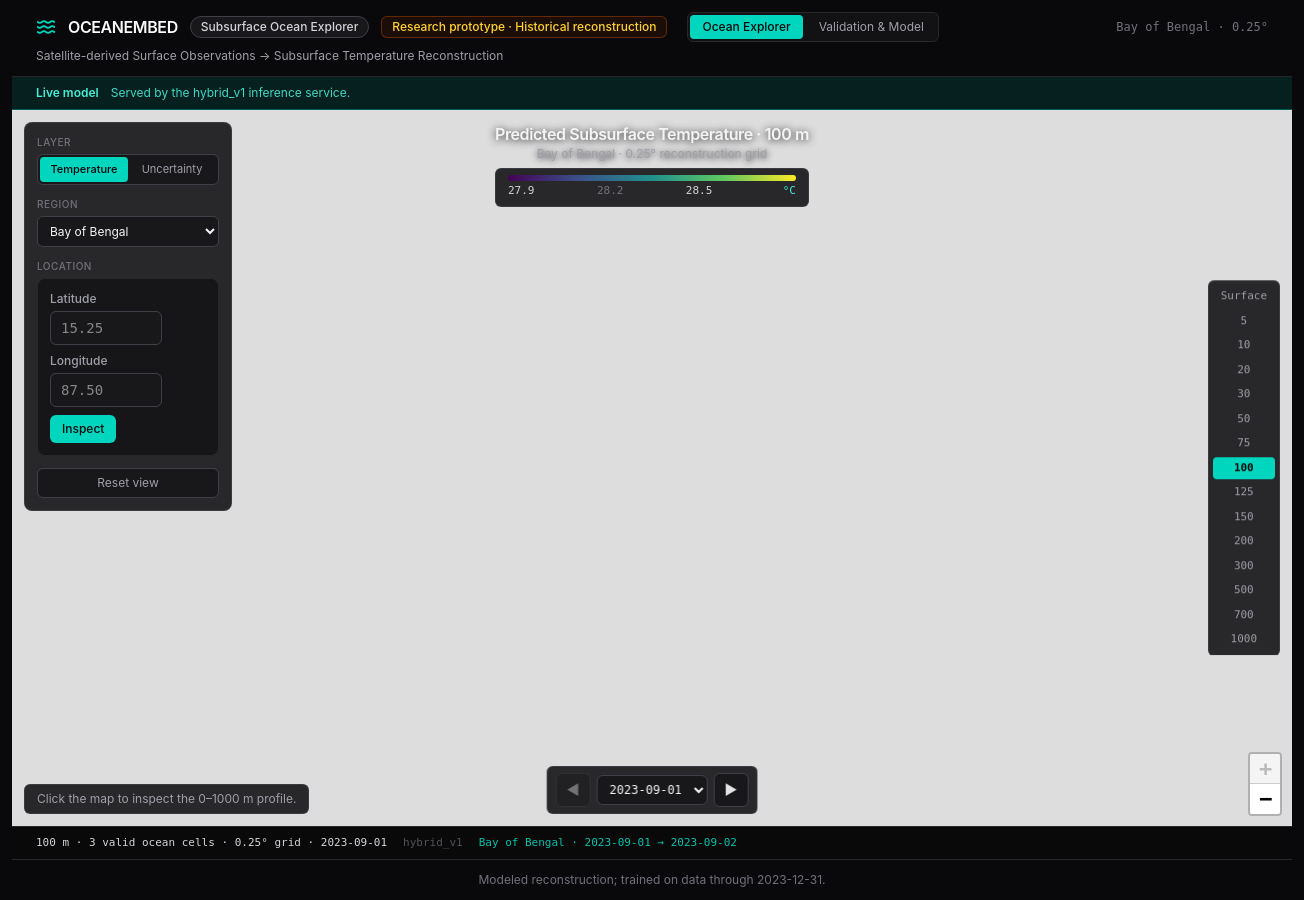
Explorer navigation + map-first views › keeps unsupported regions unavailable (no fake Arabian Sea globe data)
Select "Arabian Sea" in the dropdown named "Region" at (128, 231), box [37,216,219,246]
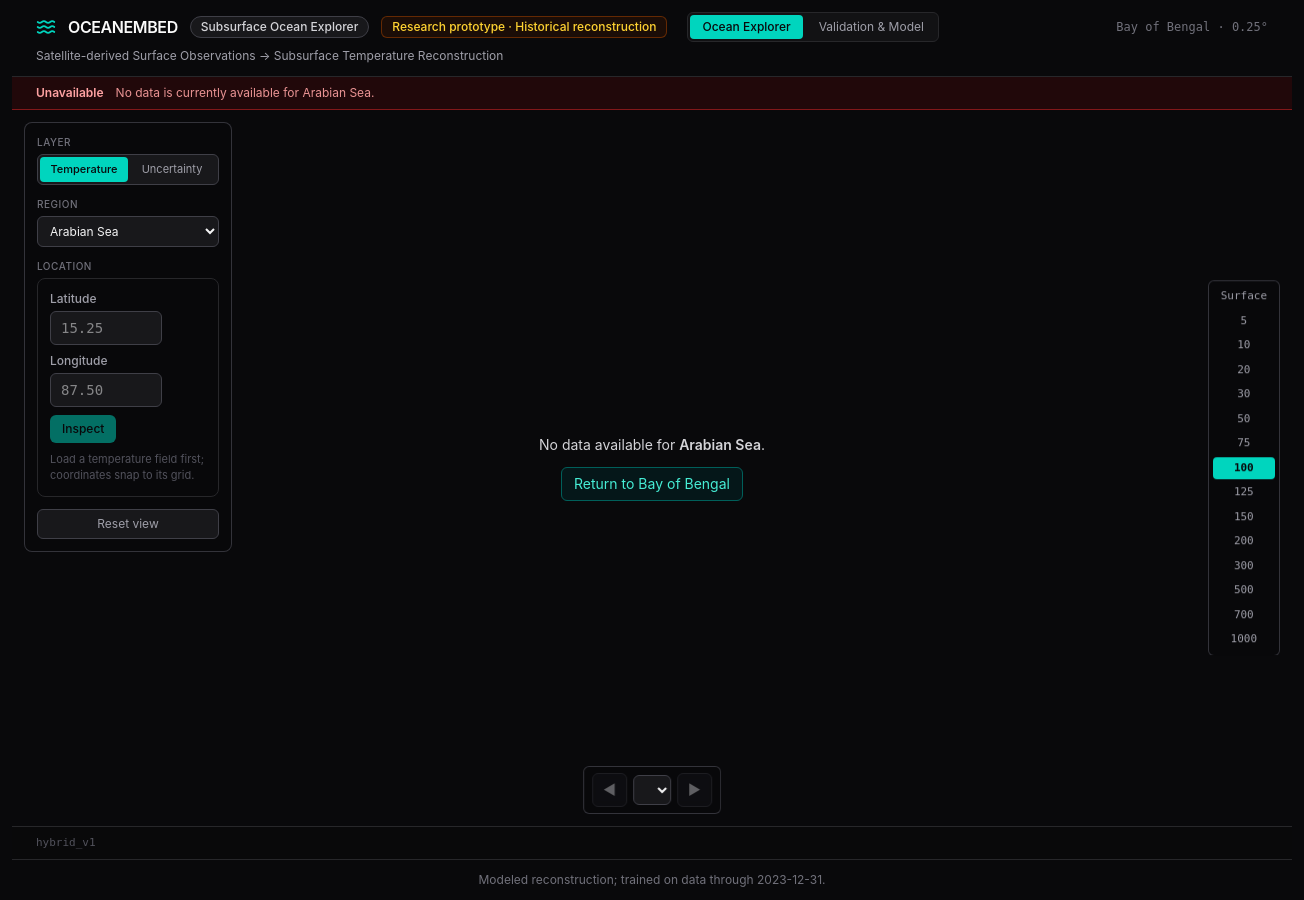
Expected: the element with test id "empty-region-state" is shown, [539,436,765,501]
